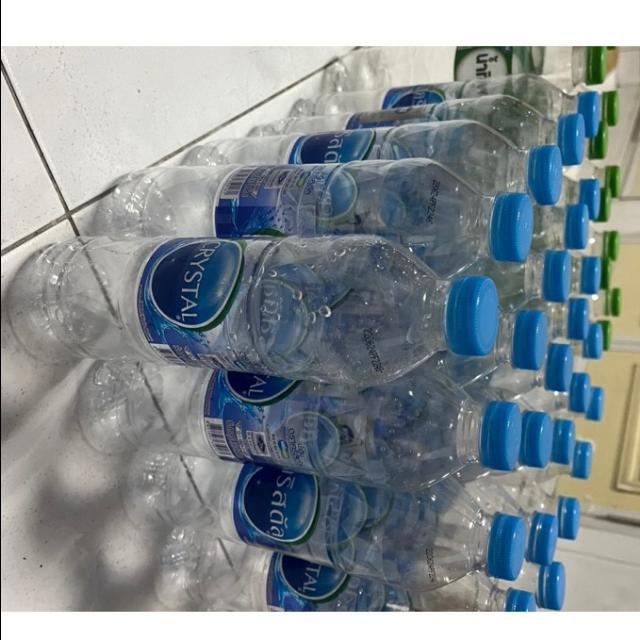PET Bottle: (21, 216, 493, 409), (490, 138, 640, 640), (27, 388, 541, 512), (104, 146, 530, 295), (75, 455, 557, 574), (119, 536, 572, 640), (212, 122, 616, 218), (317, 77, 591, 165)
